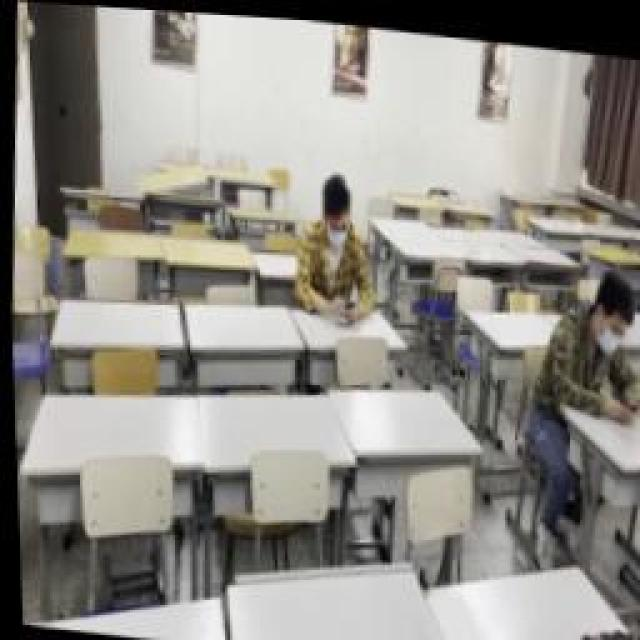phone: (287, 167, 375, 315), (565, 255, 640, 420)
